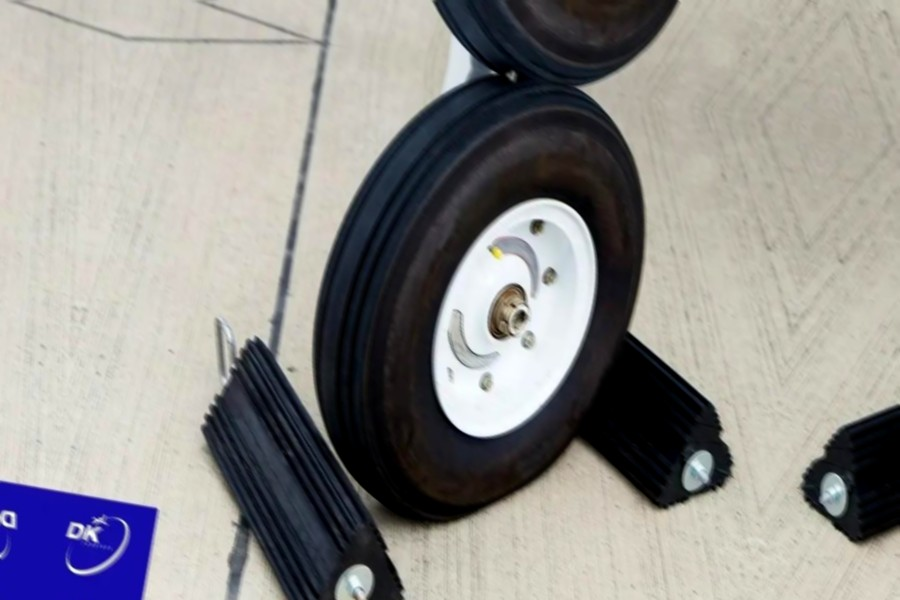chock: (168, 325, 446, 600), (521, 305, 757, 522), (792, 352, 900, 569)
wheel: (288, 51, 670, 547)
